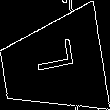L_W: (28, 45, 77, 85)
